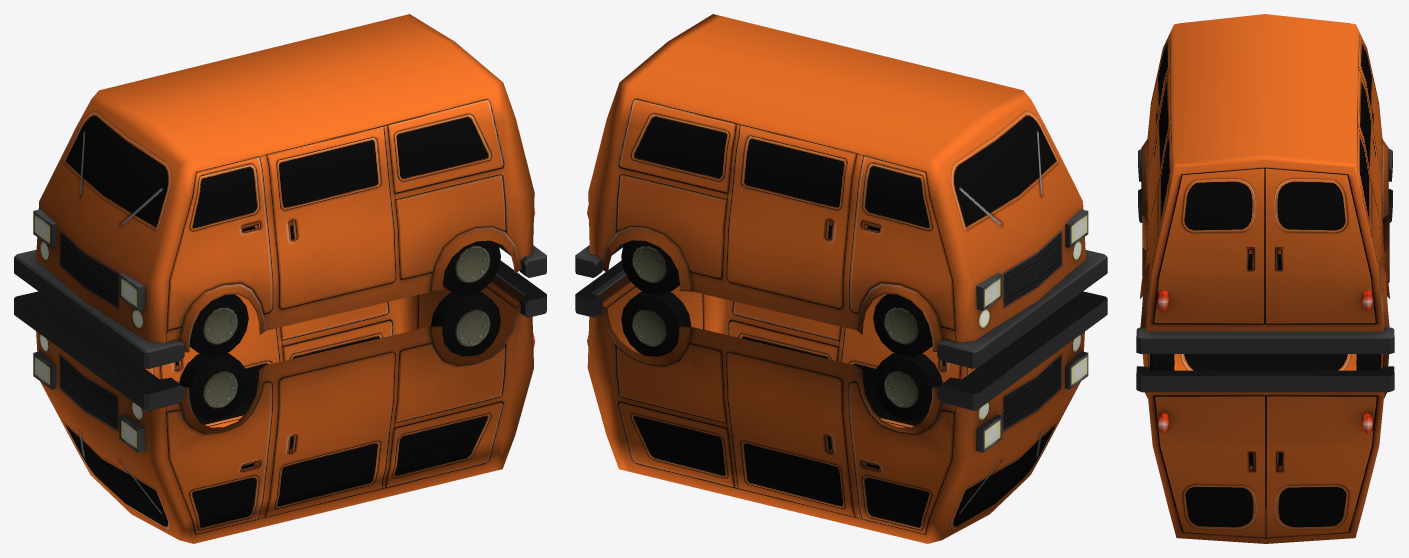
Rendered from van.glb.
The picture shows the model from 3 angles, left to right: view 1: azimuth 30°, elevation 25°; view 2: azimuth 150°, elevation 25°; view 3: azimuth 270°, elevation 25°; orthographic projection. The views are drawn at different scales.
Parts seen in each view (by area): view 1: Track:ven, ven, Ven_front_right_tyre, Ven_back_right_tyre, Track:Ven_front_left_tyre, Track:Ven_back_left_tyre; view 2: Track:ven, ven, Ven_front_left_tyre, Ven_back_left_tyre, Track:Ven_front_right_tyre, Track:Ven_back_right_tyre; view 3: Track:ven, ven, Ven_back_left_tyre, Ven_back_right_tyre.
Boxes of the visible parts, left/top/right/bottom form: Track:ven: left=14, top=14, right=546, bottom=368; ven: left=14, top=260, right=546, bottom=543; Ven_front_right_tyre: left=179, top=353, right=248, bottom=420; Ven_back_right_tyre: left=430, top=291, right=500, bottom=356; Track:Ven_front_left_tyre: left=189, top=294, right=248, bottom=356; Track:Ven_back_left_tyre: left=443, top=240, right=500, bottom=295; Track:ven: left=575, top=14, right=1107, bottom=368; ven: left=575, top=260, right=1107, bottom=543; Ven_front_left_tyre: left=873, top=352, right=942, bottom=419; Ven_back_left_tyre: left=621, top=291, right=691, bottom=356; Track:Ven_front_right_tyre: left=873, top=294, right=932, bottom=356; Track:Ven_back_right_tyre: left=621, top=240, right=679, bottom=295; Track:ven: left=1136, top=14, right=1394, bottom=353; ven: left=1136, top=189, right=1394, bottom=543; Ven_back_left_tyre: left=1356, top=354, right=1381, bottom=370; Ven_back_right_tyre: left=1149, top=354, right=1174, bottom=370.
Bounding box in the file's own units: 4.41 × 4.23 × 2.56.
1 material, 1 textured.
